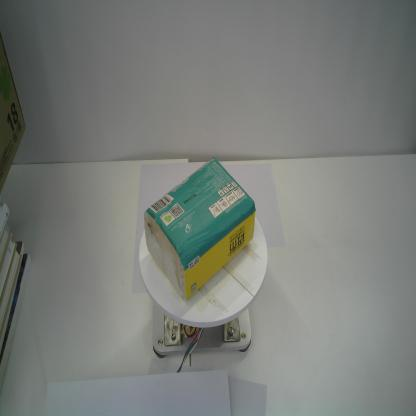Tissue: (143, 154, 257, 303)
